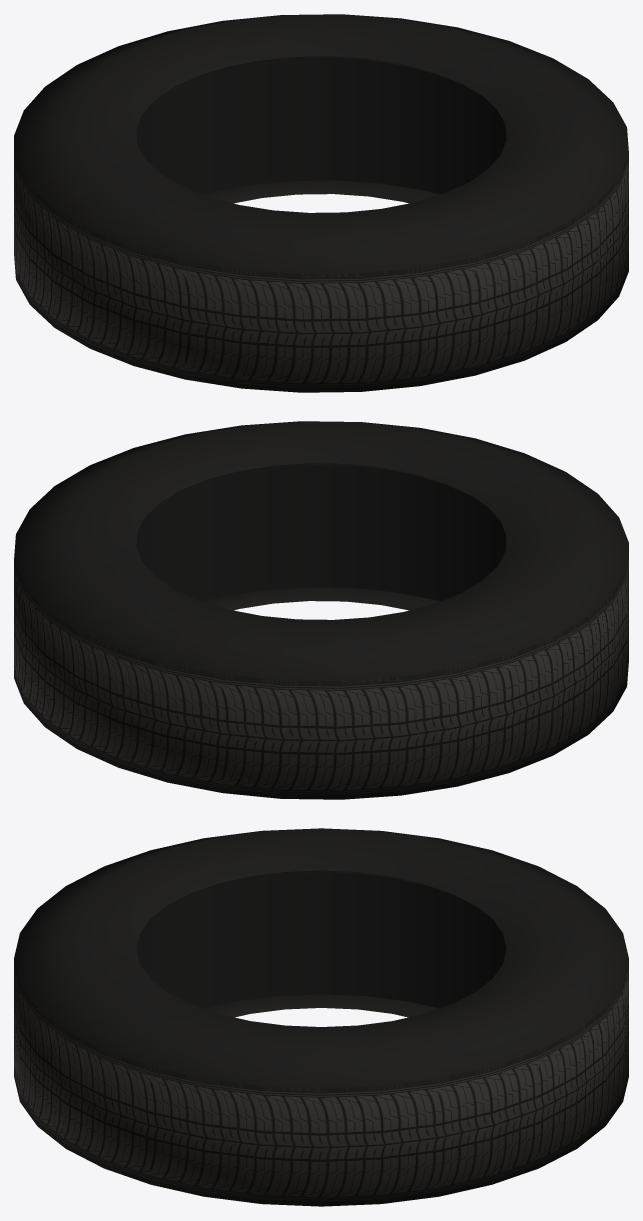
The model's file is Tire.fbx.
3 views of the same model, one above another, from view 1: azimuth 30°, elevation 25°; view 2: azimuth 150°, elevation 25°; view 3: azimuth 270°, elevation 25° (orthographic).
Visible parts, largest first — view 1: Tire_LOD_0; view 2: Tire_LOD_0; view 3: Tire_LOD_0.
Part boxes in pixels (box(x1,y1,x2,y2)): Tire_LOD_0: box(14, 14, 628, 392); Tire_LOD_0: box(14, 421, 628, 799); Tire_LOD_0: box(14, 828, 628, 1206).
Size of what is drawn, in the model's own units: 67.9 by 19.48 by 67.9.
